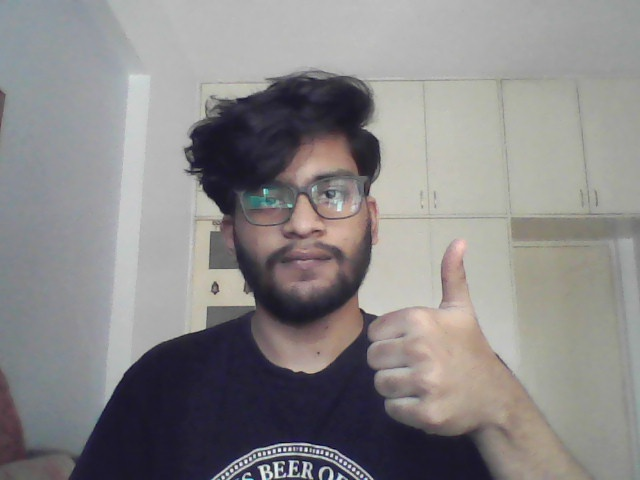Thumbsup: (362, 236, 516, 439)
